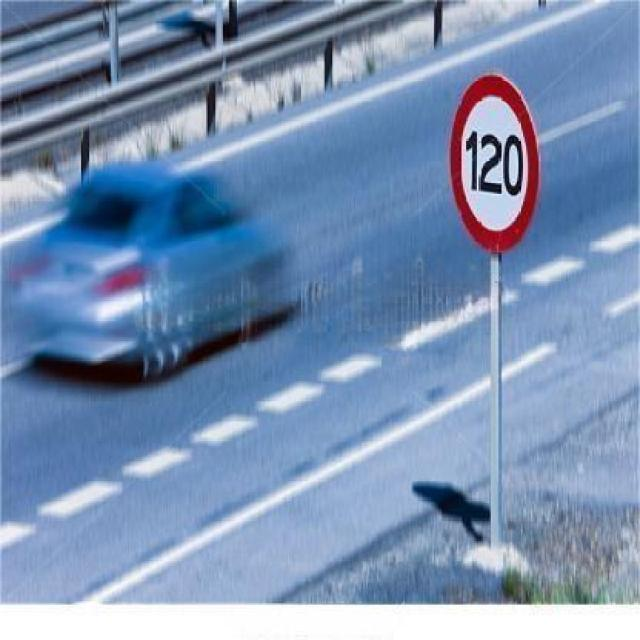speed limit 120: (449, 72, 542, 252)
